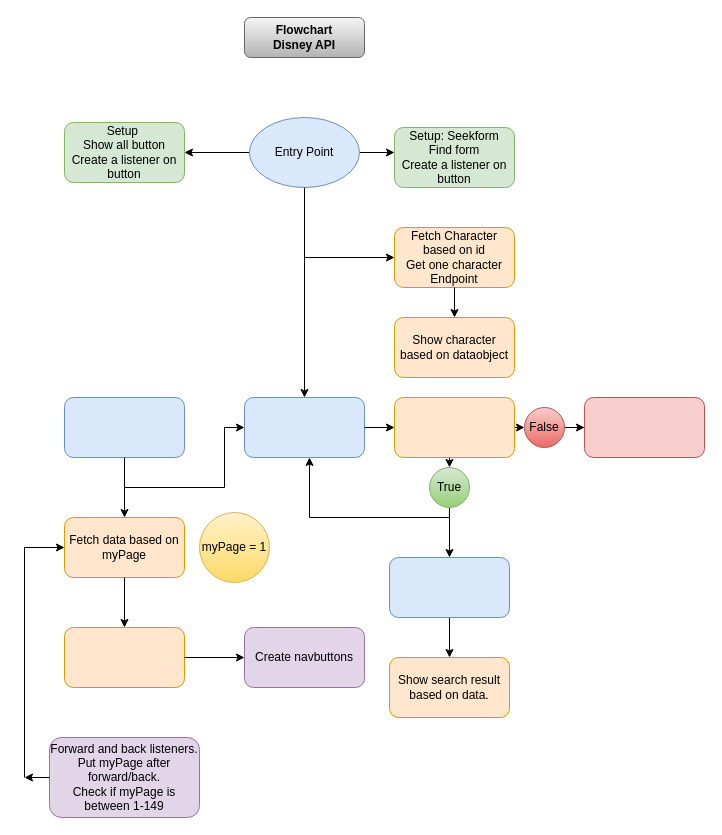
Image size: 722x835. Some labels were removed from this diagram. Here are the shapes that lost their labels. From the top down, the centre of each, then its label:
the point at 124,427: Show all listener
the point at 304,427: Loading Screen
the point at 454,427: Seek listener. Validate if there is a name to search for.
the point at 644,427: Error feedback. Name is missing.
the point at 449,587: Fetch from name. Use filter endpoint
the point at 124,657: Show page from data
